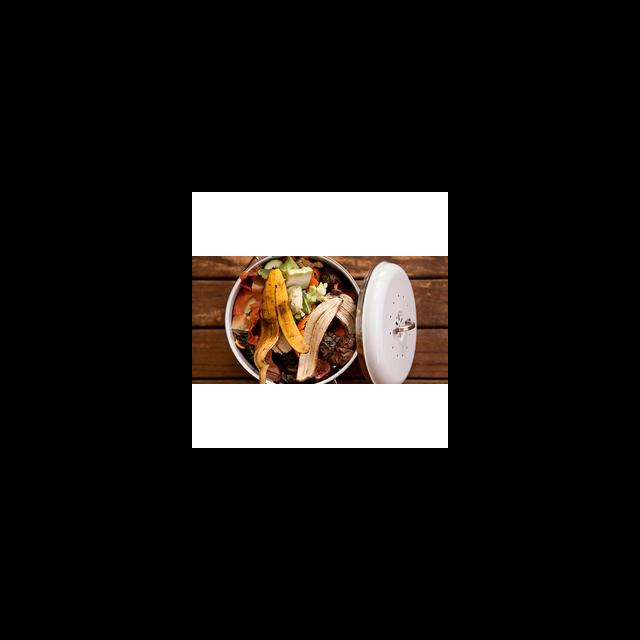food_waste: (238, 261, 353, 379)
